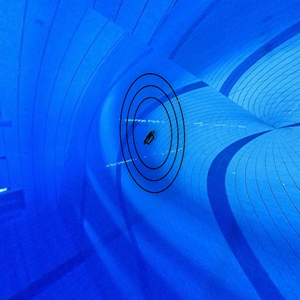circle: (115, 69, 192, 198)
submarine: (140, 128, 164, 151)
